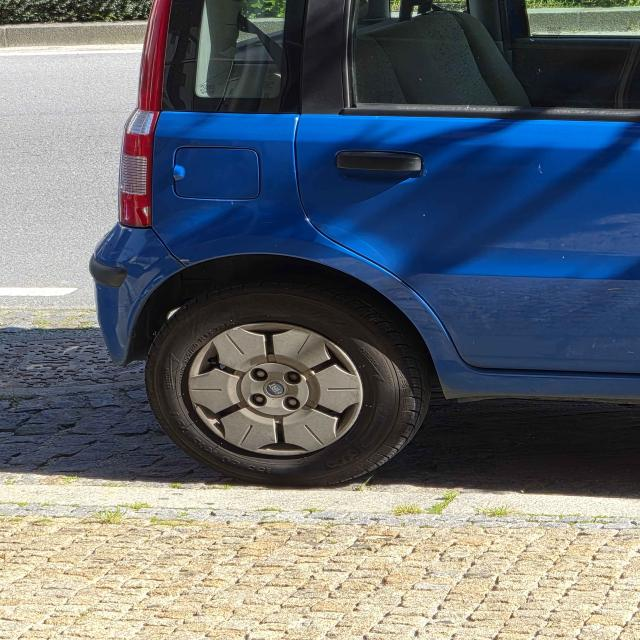jante: (183, 322, 365, 458)
parafuso: (282, 368, 303, 387), (248, 391, 268, 410), (249, 368, 270, 383), (283, 397, 304, 412)
roda: (146, 280, 438, 488)
